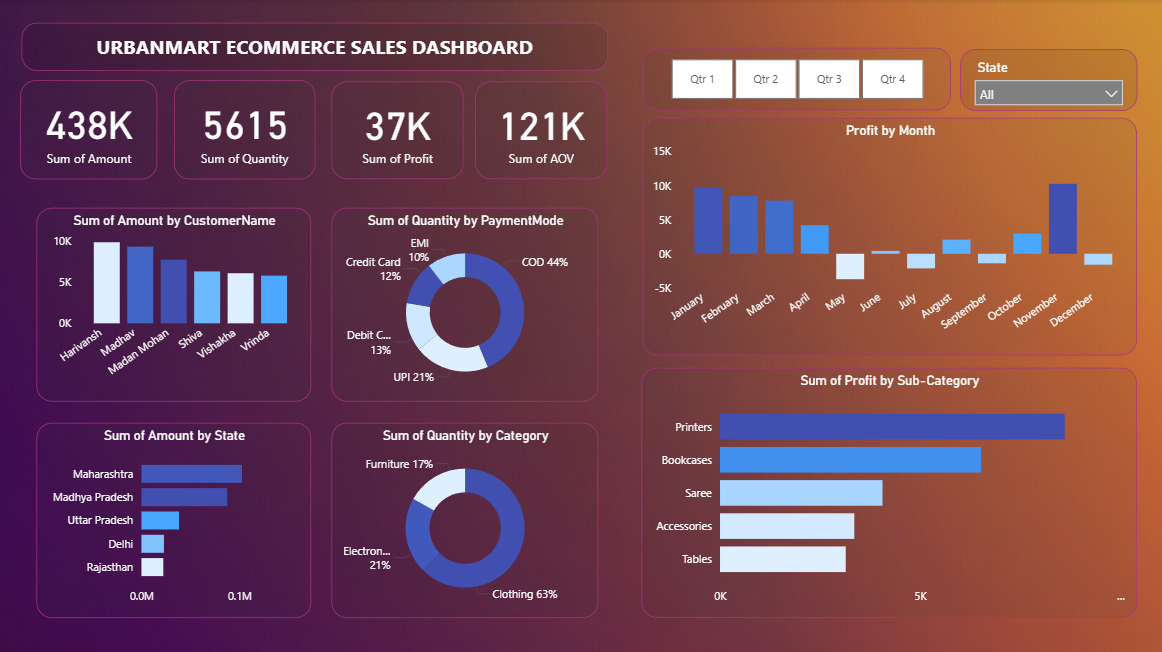

This screenshot's page, from the dashboard's own definition file:
{"tool":"powerbi","page":{"name":"Page 1","canvas":[1280,720],"ordinal":0},"visuals":[{"type":"textbox","box":[24.3,25.7,644.3,52.9],"z":0},{"type":"columnChart","title":"Profit by Month","fields":{"Category":["Orders.Order Date.Variation.Date Hierarchy.Month"],"Y":["Details.Profit"]},"box":[707,131,542.3,260.6],"z":1000},{"type":"barChart","fields":{"Category":["Details.Sub-Category"],"Y":["Details.Profit"]},"box":[705.6,404.2,543.7,274.6],"z":2000},{"type":"donutChart","fields":{"Category":["Details.Category"],"Y":["Details.Quantity"]},"box":[364.8,464.8,293,214.1],"z":3000},{"type":"donutChart","fields":{"Y":["Details.Quantity"],"Category":["Details.PaymentMode"]},"box":[364.8,229.6,293,212.7],"z":4000},{"type":"card","fields":{"Values":["Details.Amount"]},"box":[23.9,88.7,150.7,108.5],"z":5000},{"type":"card","fields":{"Values":["Details.Profit"]},"box":[364.8,90.1,145.1,107],"z":6000},{"type":"card","fields":{"Values":["Details.Quantity"]},"box":[191.5,88.7,154.9,108.5],"z":7000},{"type":"card","fields":{"Values":["Details.AOV"]},"box":[522.5,90.1,145.1,107],"z":8000},{"type":"barChart","fields":{"Category":["Orders.State"],"Y":["Details.Amount"]},"box":[40.8,464.8,301.4,214.1],"z":9000},{"type":"columnChart","fields":{"Category":["Orders.CustomerName"],"Y":["Details.Amount"]},"box":[40.8,229.6,301.4,212.7],"z":10000},{"type":"slicer","fields":{"Values":["Orders.Order Date.Variation.Date Hierarchy.Quarter"]},"box":[707,53.5,338,69],"z":11000},{"type":"slicer","fields":{"Values":["Orders.State"]},"box":[1054.9,54.9,194.4,67.6],"z":12000}]}

Visuals, with their boxes in screenshot pixels (x1, y1, x2, y2), scaled from the page's 1280x720 canvas onto the 1162x652 screenshot:
textbox: <bbox>22, 23, 607, 71</bbox>
"Profit by Month" columnChart: <bbox>642, 119, 1134, 355</bbox>
barChart - Details.Sub-Category x Details.Profit: <bbox>641, 366, 1134, 615</bbox>
donutChart - Details.Category x Details.Quantity: <bbox>331, 421, 597, 615</bbox>
donutChart - Details.Quantity x Details.PaymentMode: <bbox>331, 208, 597, 401</bbox>
card - Details.Amount: <bbox>22, 80, 159, 179</bbox>
card - Details.Profit: <bbox>331, 82, 463, 178</bbox>
card - Details.Quantity: <bbox>174, 80, 314, 179</bbox>
card - Details.AOV: <bbox>474, 82, 606, 178</bbox>
barChart - Orders.State x Details.Amount: <bbox>37, 421, 311, 615</bbox>
columnChart - Orders.CustomerName x Details.Amount: <bbox>37, 208, 311, 401</bbox>
slicer - Orders.Order Date.Variation.Date Hierarchy.Quarter: <bbox>642, 48, 949, 111</bbox>
slicer - Orders.State: <bbox>958, 50, 1134, 111</bbox>
